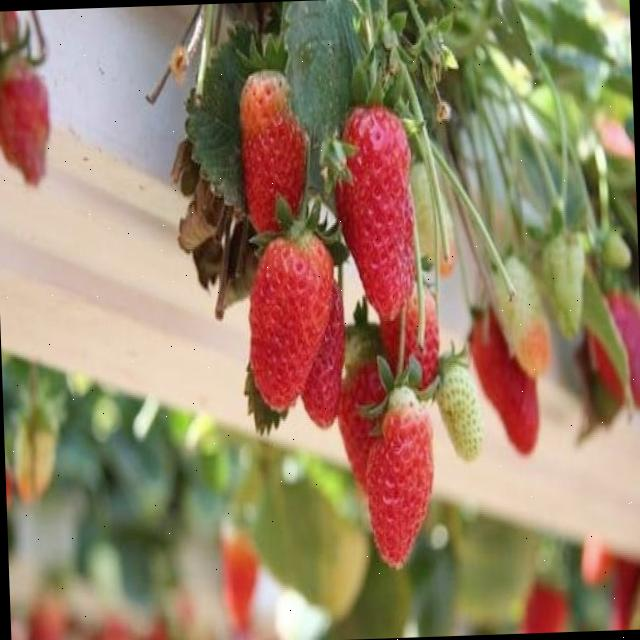strawberry: (332, 103, 418, 319), (246, 232, 340, 408), (362, 386, 438, 568), (238, 64, 308, 234), (466, 304, 540, 456), (491, 254, 554, 373), (0, 47, 51, 187), (408, 158, 453, 278), (539, 232, 588, 336), (434, 361, 482, 459)
